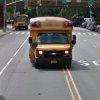Bus: (28, 12, 75, 73)
